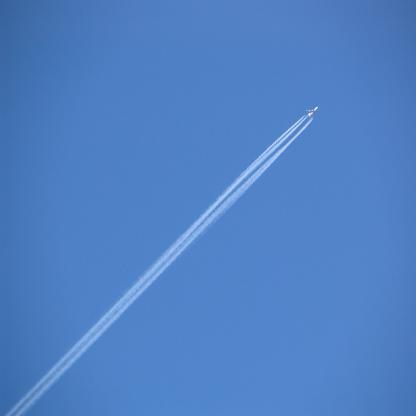aircraft: (304, 106, 321, 117)
